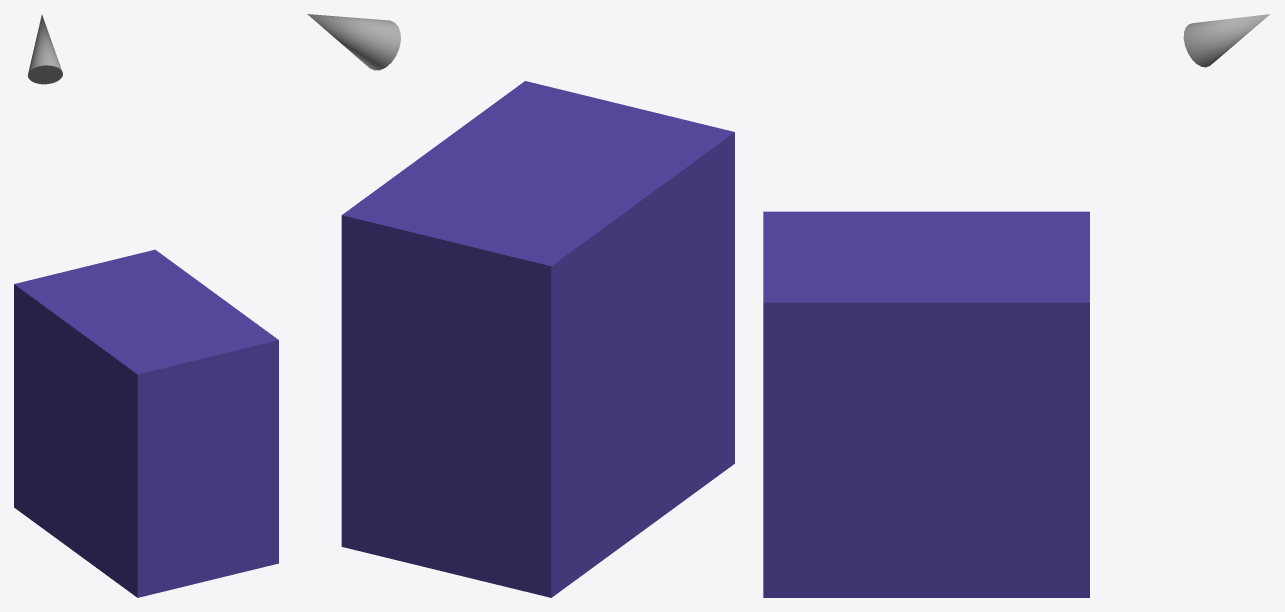
The model's file is simpleScene.fbx.
The picture shows the model from 3 angles, left to right: view 1: azimuth 30°, elevation 25°; view 2: azimuth 150°, elevation 25°; view 3: azimuth 270°, elevation 25°; orthographic projection. The views are drawn at different scales.
Visible parts, largest first — view 1: o_box1, o_light1_light; view 2: o_box1, o_light1_light; view 3: o_box1, o_light1_light.
Boxes of the visible parts, <box> form: o_box1: <box>14,249,278,597</box>; o_light1_light: <box>27,15,62,84</box>; o_box1: <box>341,81,734,597</box>; o_light1_light: <box>307,14,400,70</box>; o_box1: <box>763,211,1089,597</box>; o_light1_light: <box>1183,14,1269,67</box>.
Size of what is drawn, in the model's own units: 5.98 by 16.99 by 14.08.
